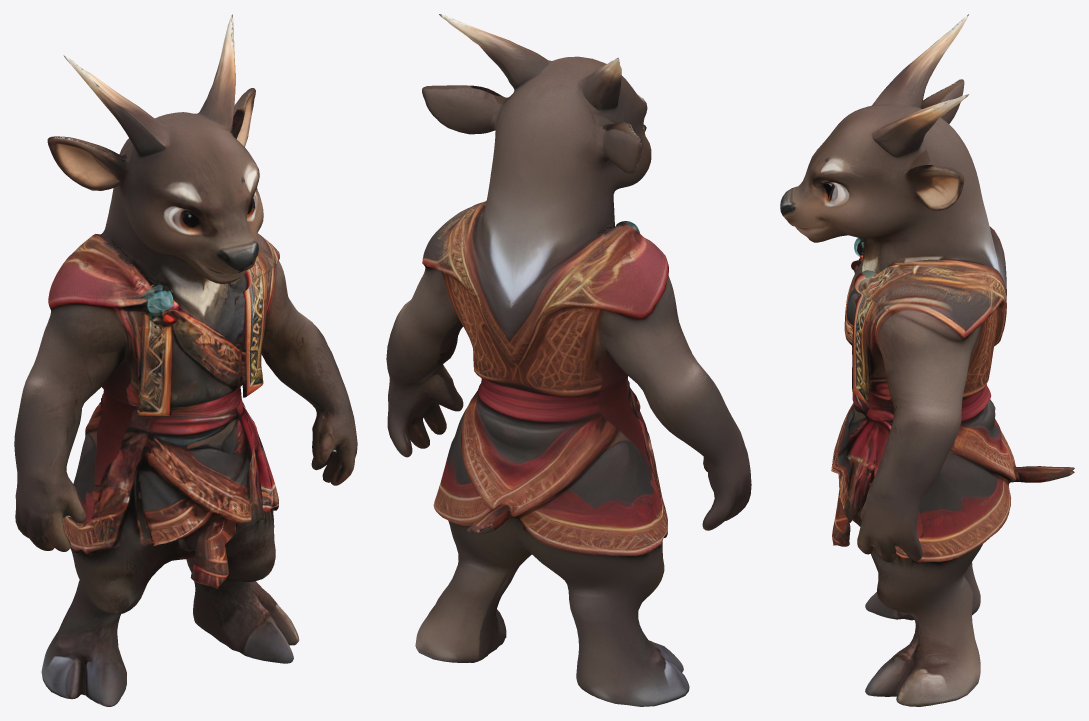
The model's file is player-anoa.glb.
3 renders of one model, left to right at view 1: azimuth 30°, elevation 25°; view 2: azimuth 150°, elevation 25°; view 3: azimuth 270°, elevation 25°, orthographic. The views are drawn at different scales.
Visible parts, largest first — view 1: Sultra player anoa; view 2: Sultra player anoa; view 3: Sultra player anoa.
Part boxes in pixels (<box>): Sultra player anoa: <box>14,14,357,706</box>; Sultra player anoa: <box>386,14,751,706</box>; Sultra player anoa: <box>780,14,1074,706</box>.
Bounding box in the file's own units: 1.06 × 1.9 × 0.8475.
Materials: 1 (1 with a texture image).
